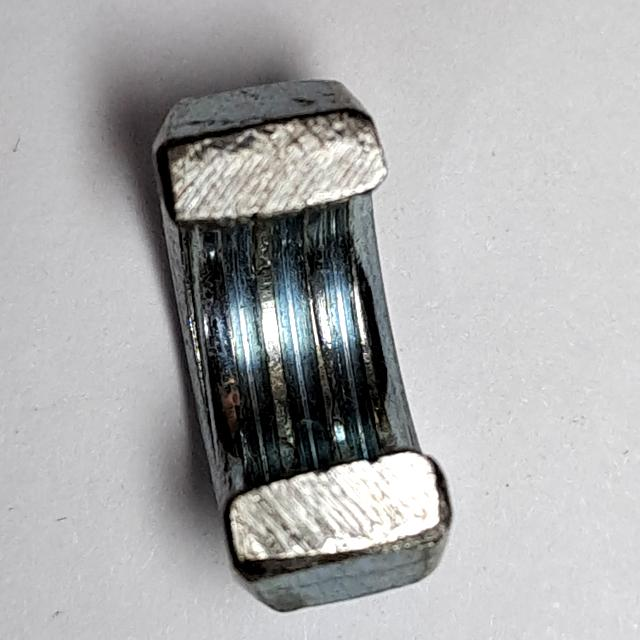Side-Fracture: (128, 64, 472, 620)
